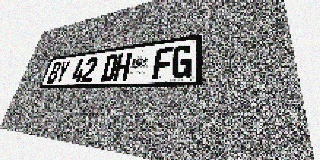2: (80, 57, 99, 82)
4: (70, 58, 88, 83)
B: (46, 61, 62, 84)
D: (100, 54, 119, 82)
F: (152, 47, 173, 79)
G: (171, 44, 193, 79)
H: (113, 52, 132, 81)
Y: (54, 60, 71, 84)
